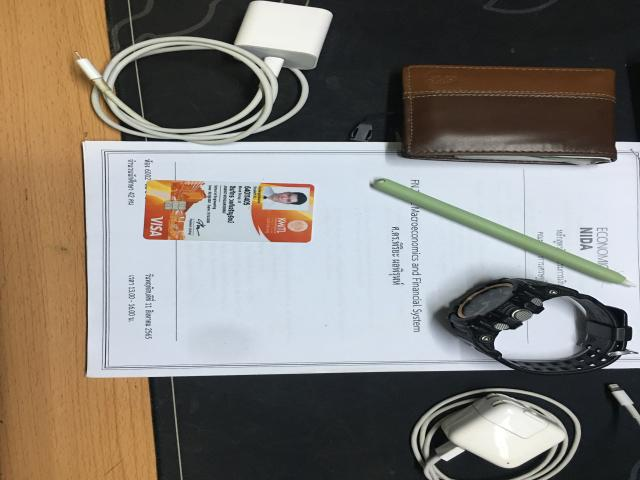Wallet: (402, 65, 617, 164)
Watch: (448, 278, 632, 375)
paper: (83, 142, 640, 377)
wire: (73, 1, 332, 144), (412, 388, 582, 480), (608, 383, 640, 425)
